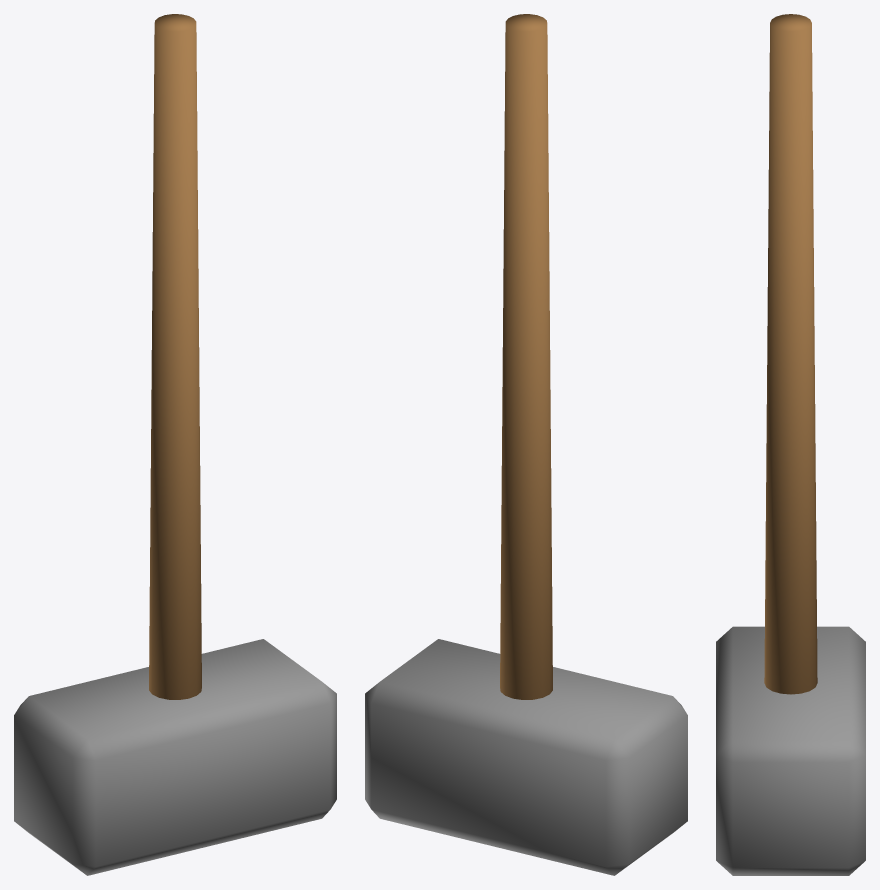
File: Mullet.fbx
The picture shows the model from 3 angles, left to right: view 1: azimuth 30°, elevation 25°; view 2: azimuth 150°, elevation 25°; view 3: azimuth 270°, elevation 25°; orthographic projection.
Visible parts, largest first — view 1: Mullet; view 2: Mullet; view 3: Mullet.
Part boxes in pixels (bbox=[...]): Mullet: bbox=[14, 14, 336, 875]; Mullet: bbox=[365, 14, 687, 875]; Mullet: bbox=[716, 14, 865, 875].
Bounding box in the file's own units: 748 × 2192 × 371.
